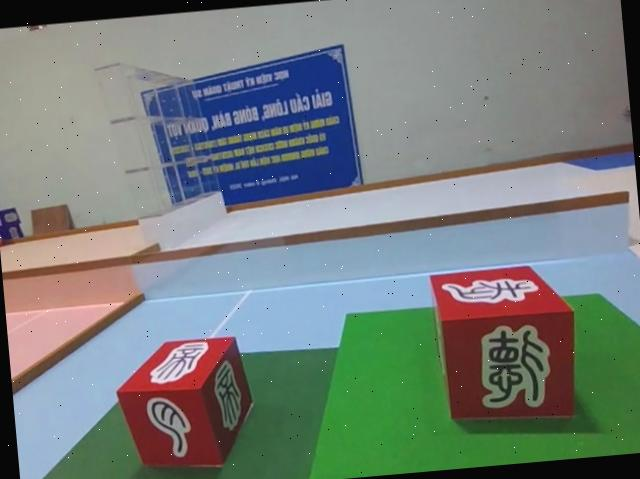R2 Fake: (424, 258, 585, 432), (114, 330, 259, 477)
